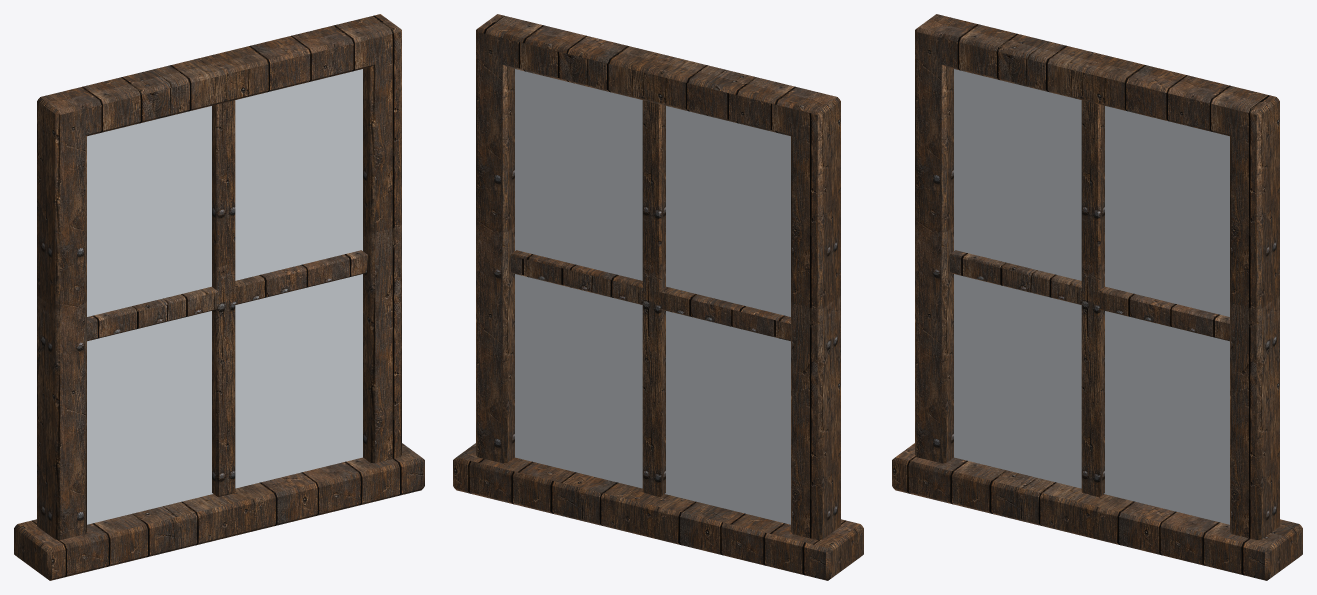
File: window-frame-v01.glb
3 renders of one model, left to right at view 1: azimuth 30°, elevation 25°; view 2: azimuth 150°, elevation 25°; view 3: azimuth 330°, elevation 25°, orthographic.
Visible parts, largest first — view 1: window-frame; view 2: window-frame; view 3: window-frame.
Boxes of the visible parts, x1,y1,x2,y2 form: window-frame: [14, 14, 424, 580]; window-frame: [453, 14, 863, 580]; window-frame: [892, 14, 1302, 580].
Bounding box in the file's own units: 1.2 × 1.4 × 0.2.
Materials: 2 (1 with a texture image).
